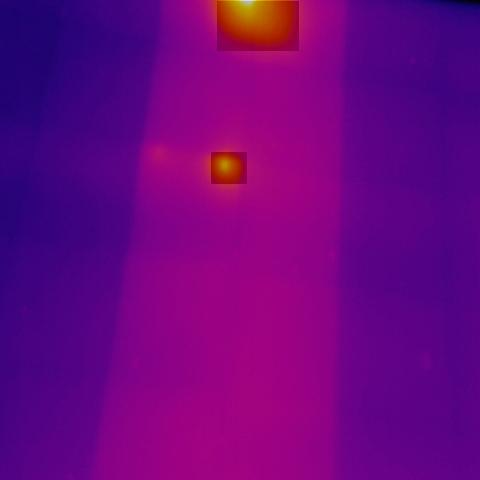fault: (218, 1, 300, 51), (211, 152, 247, 184)
